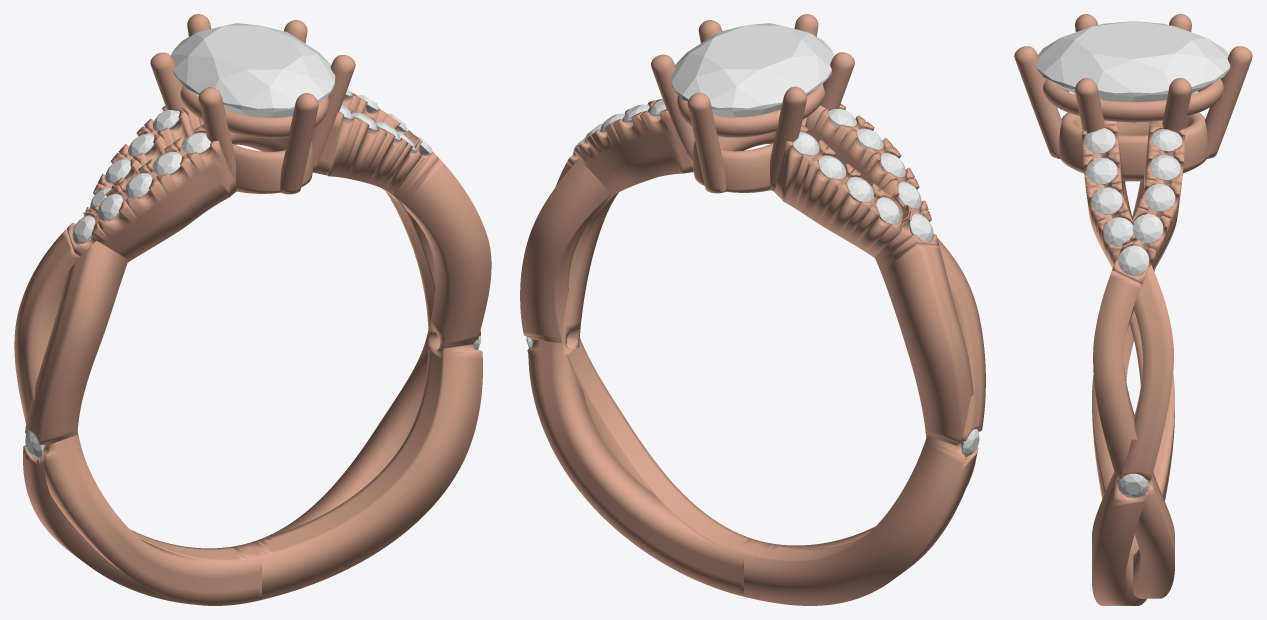
The model's file is diamond-oval-rosegold-6prong-twist-sidestones.glb.
3 views of the same model, side by side, from view 1: azimuth 30°, elevation 25°; view 2: azimuth 150°, elevation 25°; view 3: azimuth 270°, elevation 25° (orthographic).
Parts seen in each view (by area): view 1: metal.001, stone; view 2: metal.001, stone; view 3: metal.001, stone, Twist shank diamonds.015, Twist shank diamonds.016, Twist shank diamonds.017, Twist shank diamonds.012, Twist shank diamonds.011, Twist shank diamonds.013, Twist shank diamonds.018, Twist shank diamonds.014, Twist shank diamonds.010, Twist shank diamonds.019.
Part boxes in pixels (x1,y1,x2,y2): metal.001: (14, 14, 491, 605); stone: (171, 23, 335, 117); metal.001: (520, 14, 985, 605); stone: (671, 23, 834, 116); metal.001: (1014, 14, 1252, 605); stone: (1036, 21, 1230, 123); Twist shank diamonds.015: (1118, 245, 1149, 275); Twist shank diamonds.016: (1132, 214, 1163, 243); Twist shank diamonds.017: (1144, 184, 1175, 211); Twist shank diamonds.012: (1091, 187, 1122, 214); Twist shank diamonds.011: (1103, 217, 1133, 246); Twist shank diamonds.013: (1086, 158, 1117, 184); Twist shank diamonds.018: (1150, 155, 1180, 180); Twist shank diamonds.014: (1084, 128, 1115, 153); Twist shank diamonds.010: (1118, 473, 1148, 498); Twist shank diamonds.019: (1151, 129, 1182, 151).
Size of the model in its own units: 19.97 by 23.2 by 9.29.
